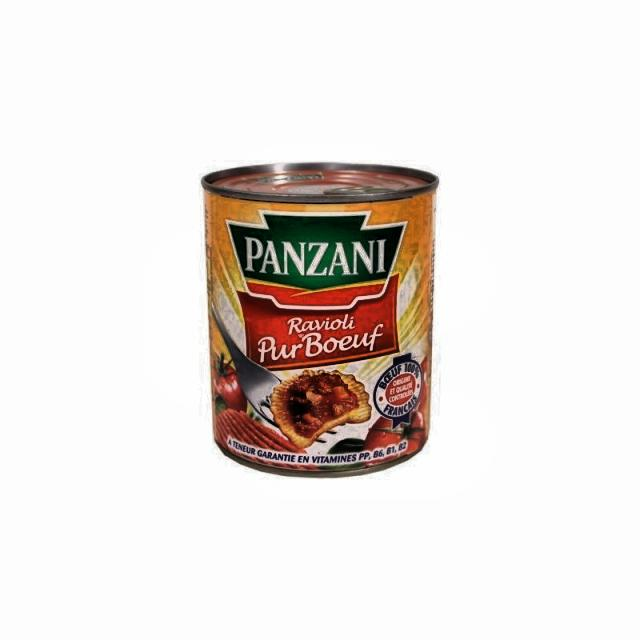Cans: (176, 143, 448, 488)
